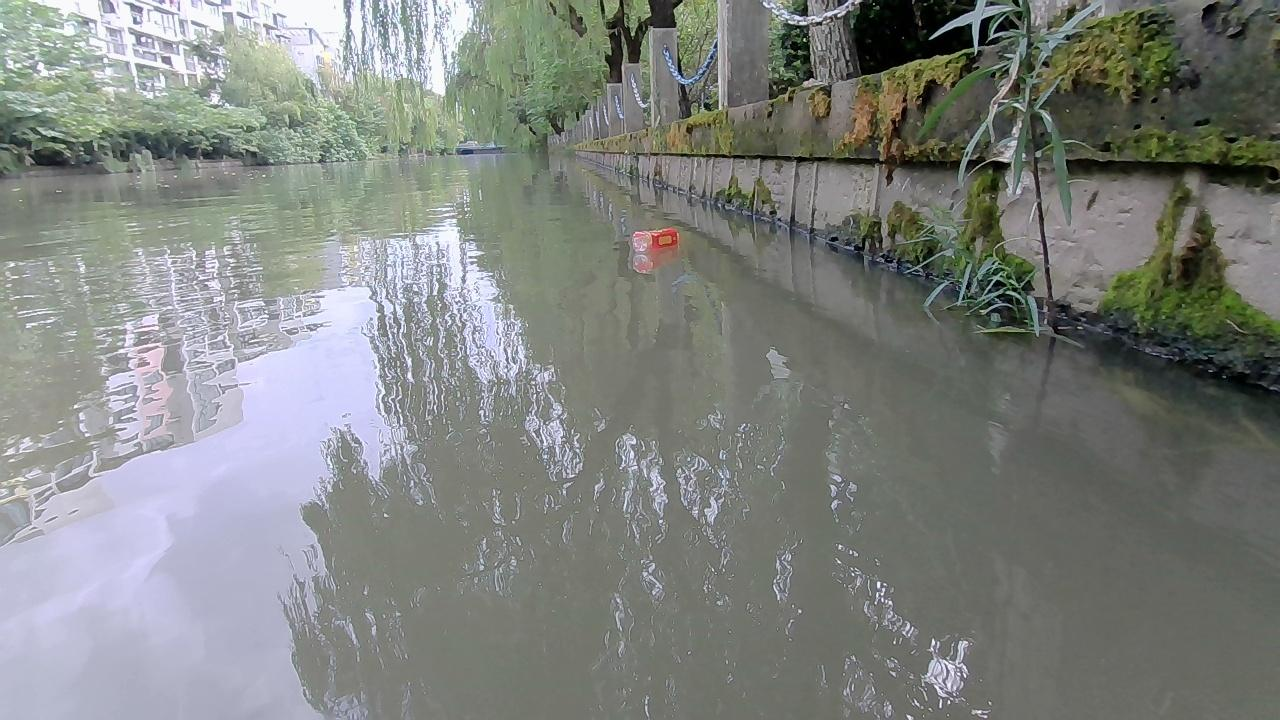bottle: (631, 227, 679, 249)
